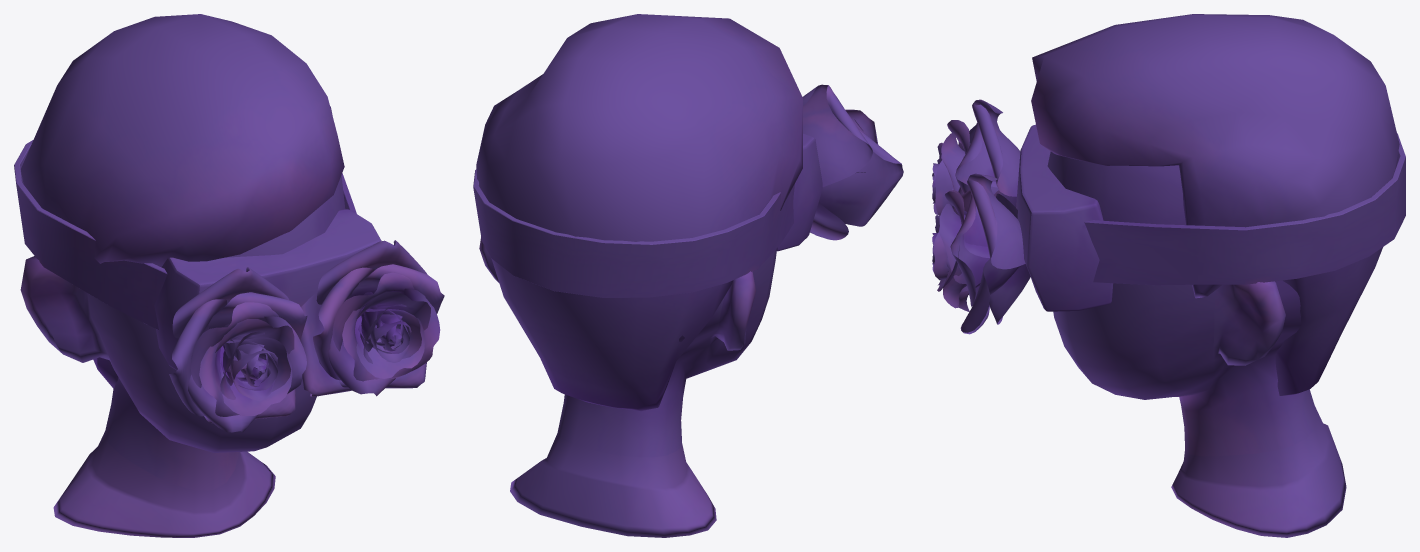
The model's file is rosehead.fbx.
The picture shows the model from 3 angles, left to right: view 1: azimuth 30°, elevation 25°; view 2: azimuth 150°, elevation 25°; view 3: azimuth 270°, elevation 25°; orthographic projection. The views are drawn at different scales.
Visible parts, largest first — view 1: polySurface1, polySurface5, polyreduce3, polyreduce2, pCube1, pCylinder1; view 2: polySurface1, polySurface5, pCylinder1, polyreduce2, pCube1; view 3: polySurface1, polySurface5, pCylinder1, polyreduce3, pCube1, polyreduce2.
Part boxes in pixels (box(x1,y1,x2,y2)): polySurface1: box(20, 14, 344, 388); polySurface5: box(20, 175, 345, 537); polyreduce3: box(300, 240, 444, 396); polyreduce2: box(169, 267, 307, 432); pCube1: box(154, 209, 381, 370); pCylinder1: box(14, 140, 356, 330); polySurface1: box(476, 14, 802, 411); polySurface5: box(479, 237, 776, 537); pCylinder1: box(473, 169, 794, 297); polyreduce2: box(802, 84, 903, 240); pCube1: box(776, 133, 822, 251); polySurface1: box(1031, 14, 1399, 395); polySurface5: box(1047, 151, 1346, 537); pCylinder1: box(1084, 133, 1405, 285); polyreduce3: box(932, 173, 1030, 334); pCube1: box(1016, 124, 1113, 311); polyreduce2: box(932, 99, 1020, 216).
Size of the model in its own units: 1.67 by 2.56 by 2.34.
